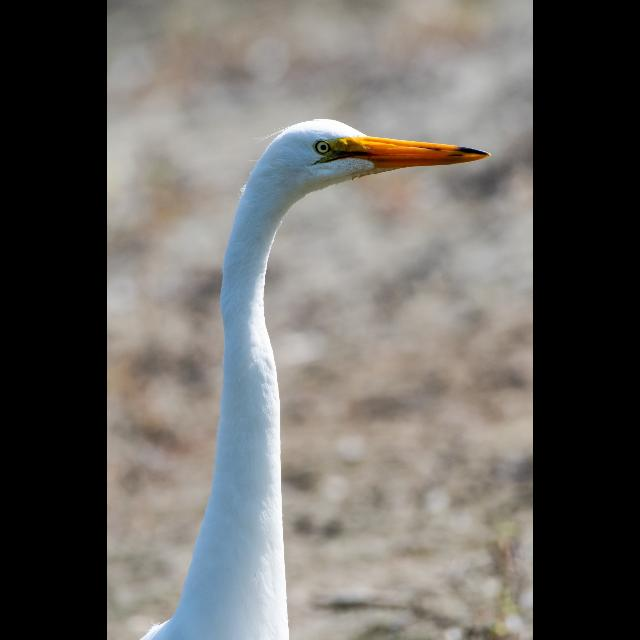egret: (148, 114, 488, 640)
